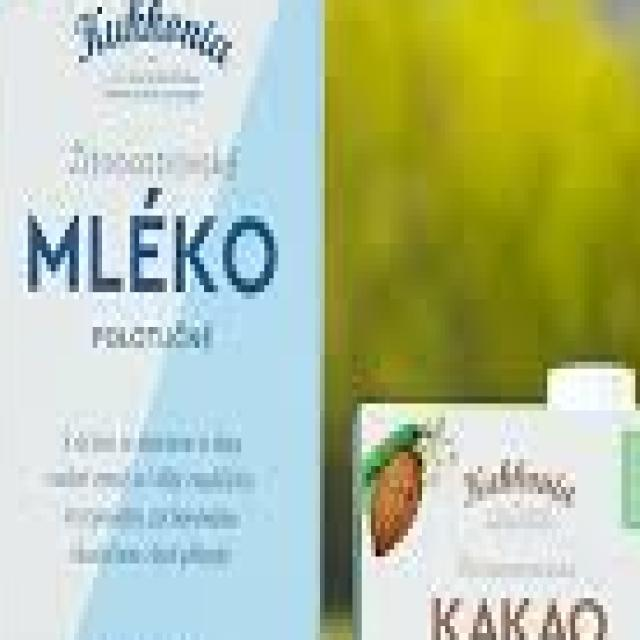milk: (0, 0, 334, 640)
